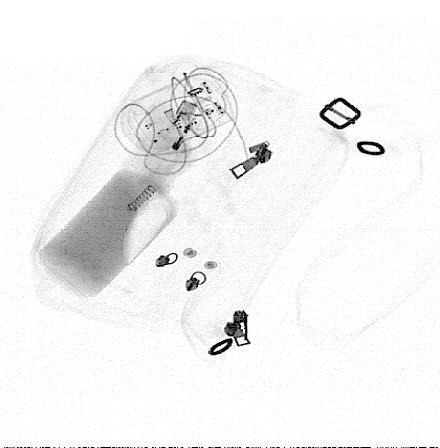Lighter: (139, 99, 208, 183)
